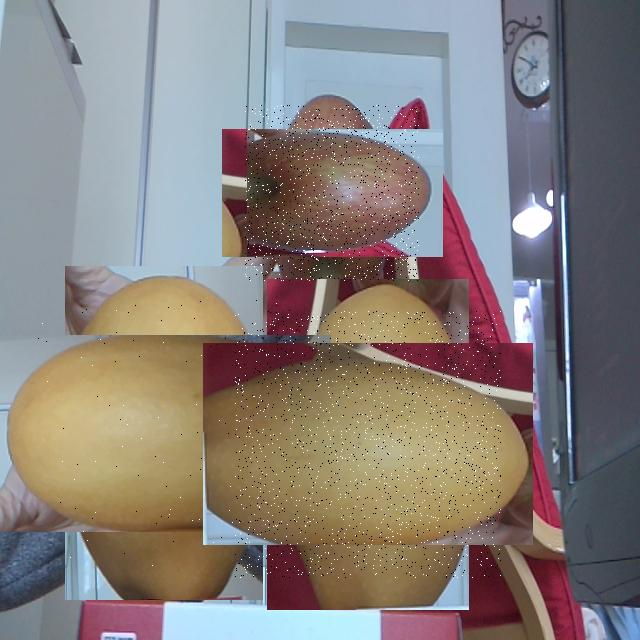apple: (245, 105, 419, 281)
pear: (235, 311, 501, 578), (31, 300, 297, 566)
